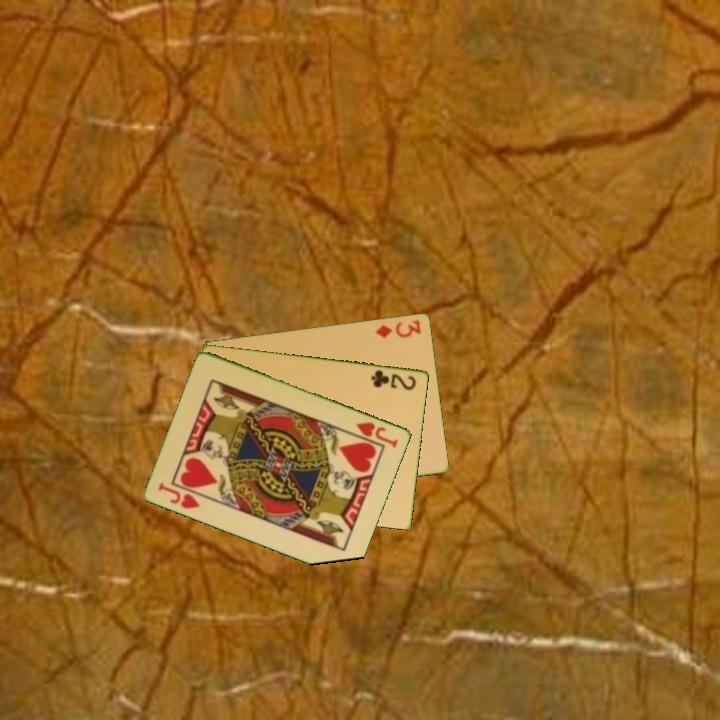2c: (368, 366, 419, 393)
3d: (372, 316, 424, 341)
Jh: (155, 479, 203, 512), (353, 418, 401, 450)
